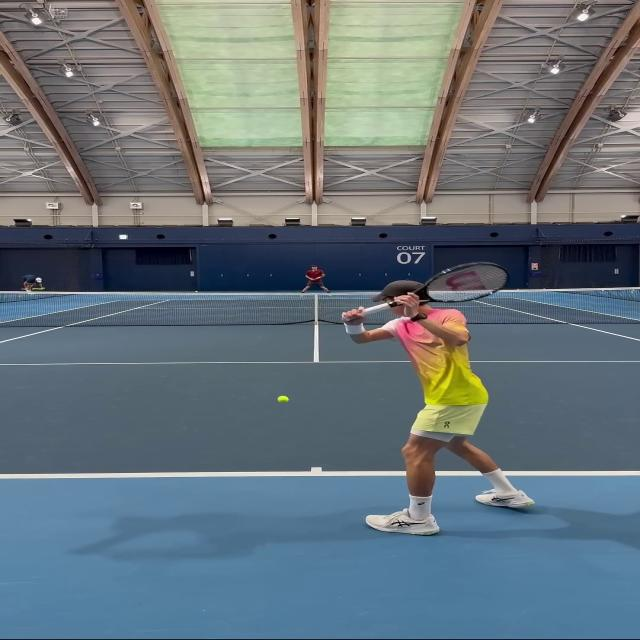tennis_ball: (277, 396, 289, 402)
